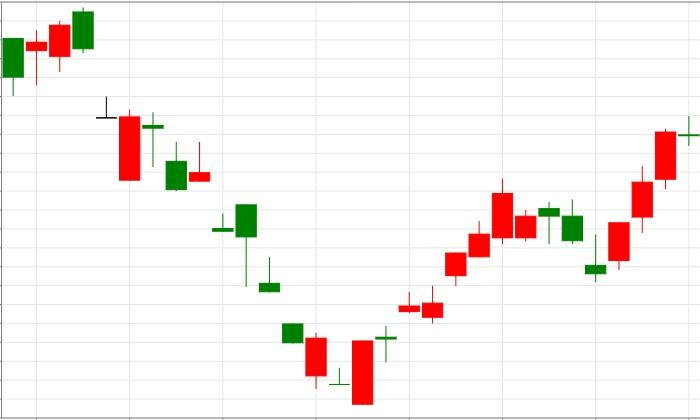three_white_soldiers_rise: (491, 128, 677, 282)
